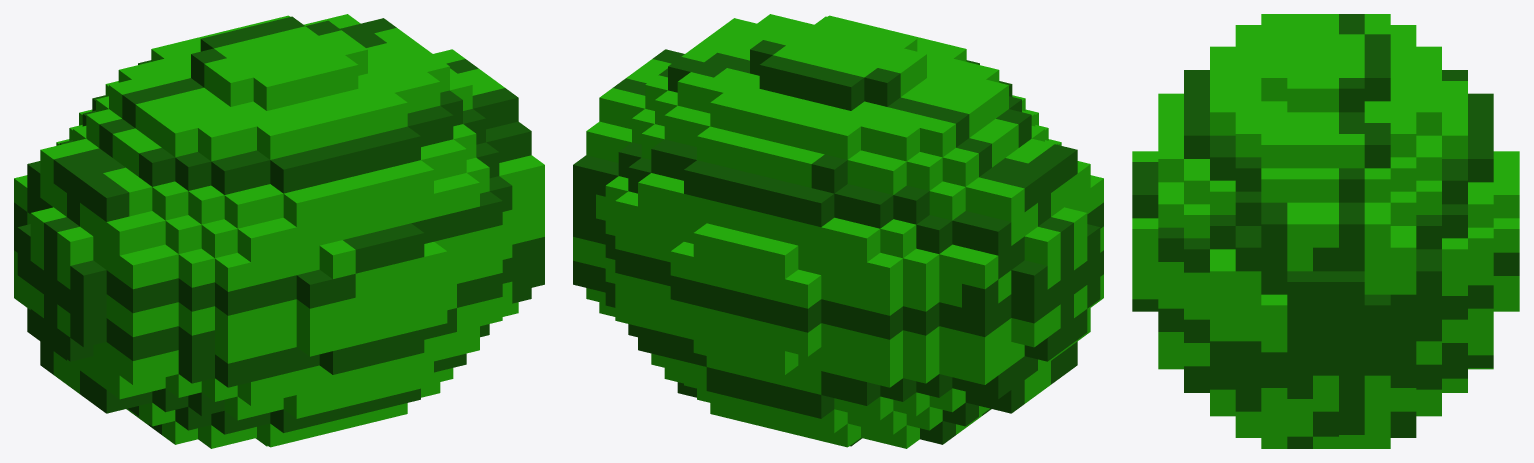
The model's file is Watermelon.fbx.
The picture shows the model from 3 angles, left to right: view 1: azimuth 30°, elevation 25°; view 2: azimuth 150°, elevation 25°; view 3: azimuth 270°, elevation 25°; orthographic projection. The views are drawn at different scales.
Parts seen in each view (by area): view 1: Untitled; view 2: Untitled; view 3: Untitled.
Part boxes in pixels (x1,y1,x2,y2): Untitled: (14,14,544,448); Untitled: (573,14,1103,448); Untitled: (1132,14,1519,448).
Size of the model in its own units: 200 by 150 by 150.
